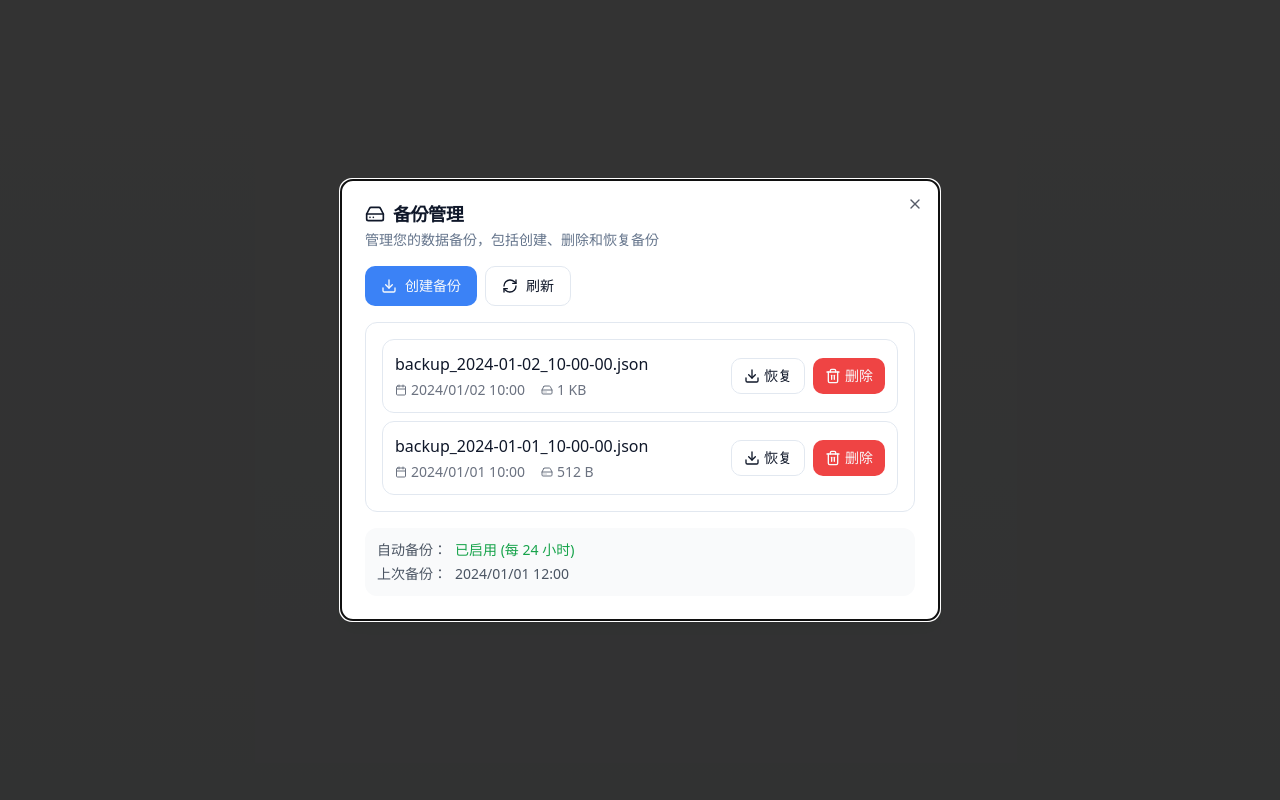
Test: BackupManagerModal › should handle backup creation error
What coordinates should you click on to do the following:
click the button "创建备份"
I would click on:
 (421, 286)
Its box is 365,266 -> 477,306.
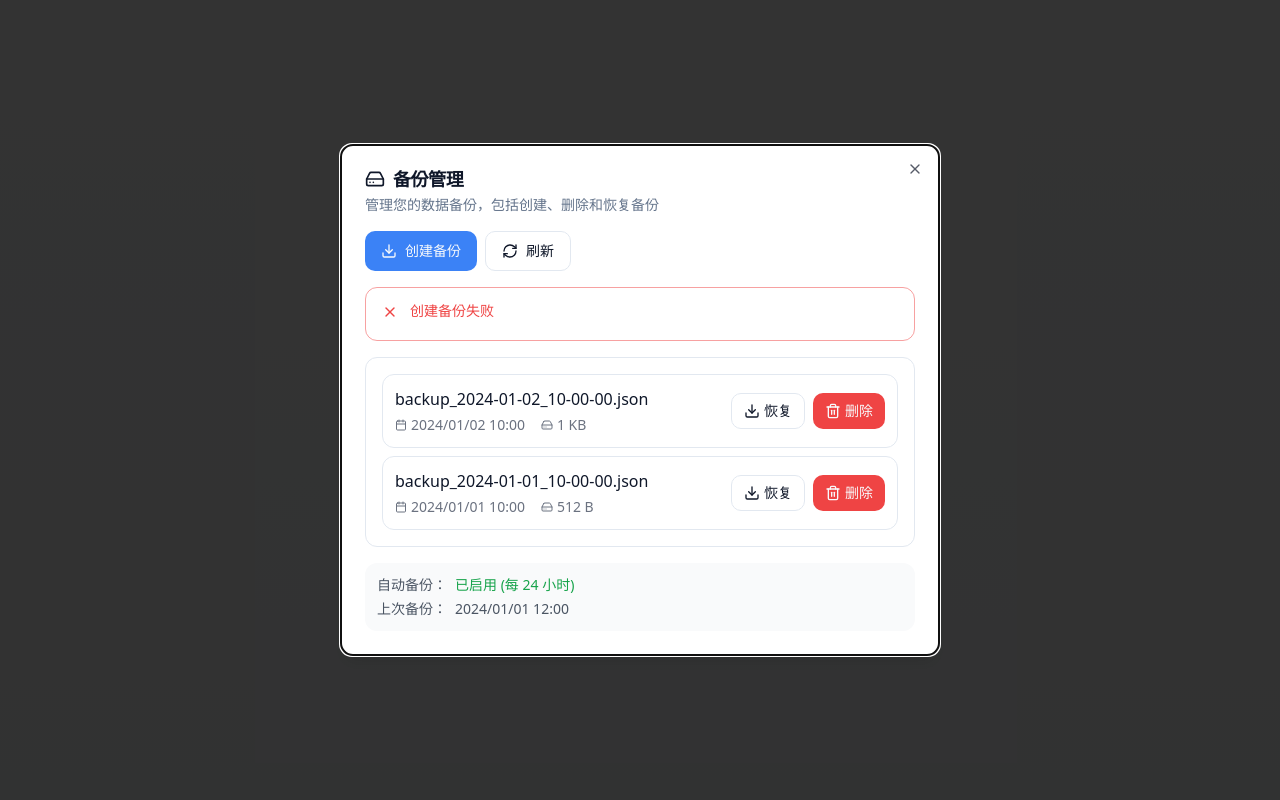
Check: the text "创建备份失败" is shown, box 410,301 -> 494,320
